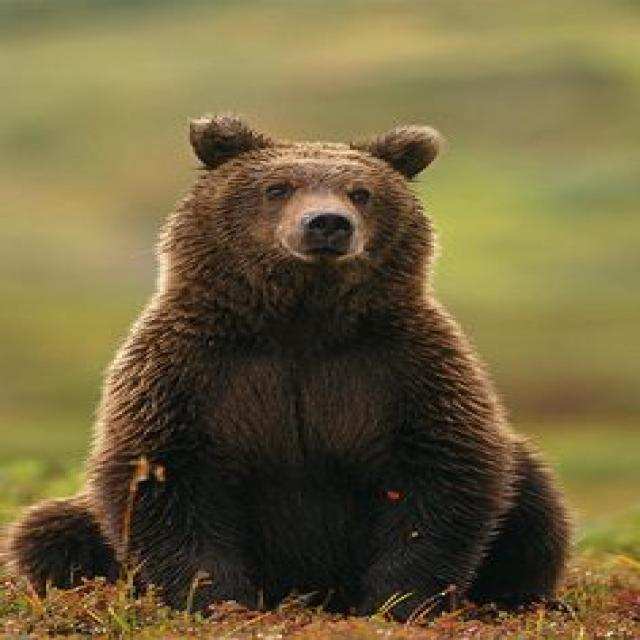Carnivorous: (0, 114, 578, 626)
